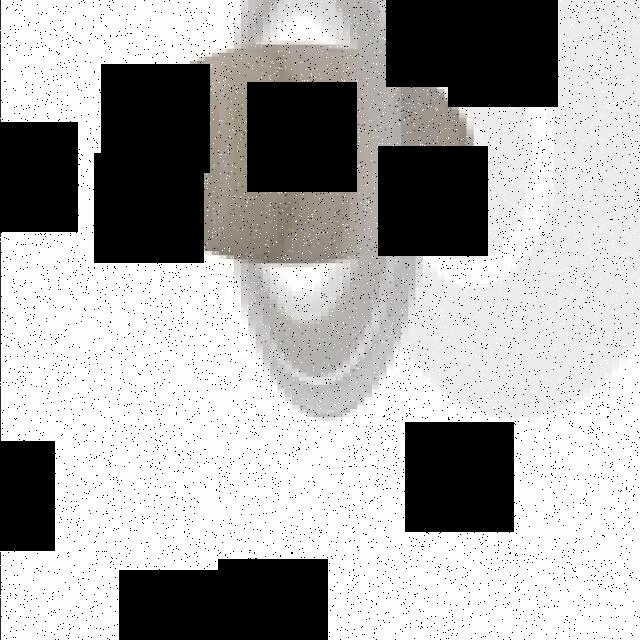Saturn: (102, 0, 480, 421)
